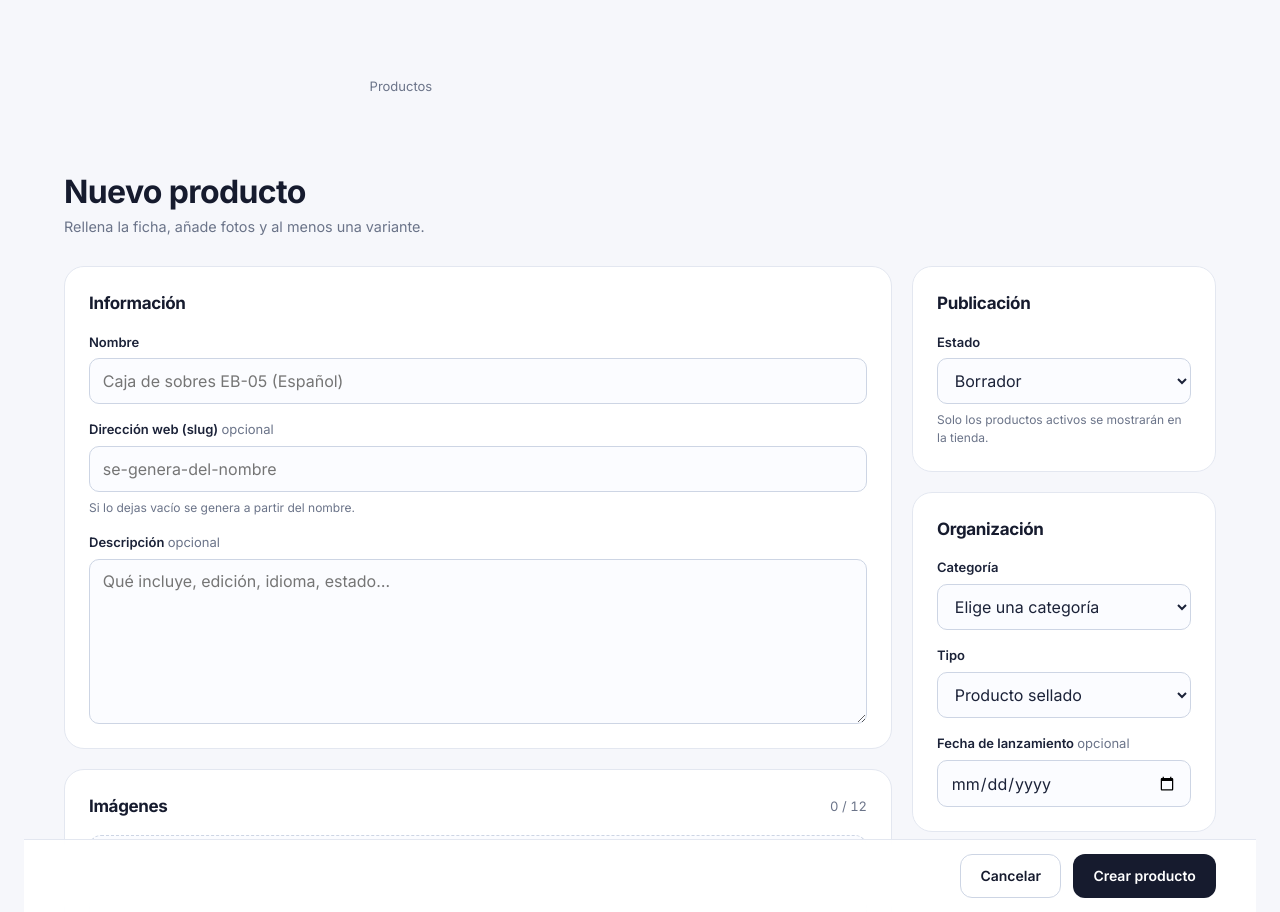
Test: ProductFormPageComponent › does not submit an incomplete product
What coordinates should you click on to do the following:
click the submit button
I would click on:
 (1145, 876)
Its box is [1073,854,1216,898].
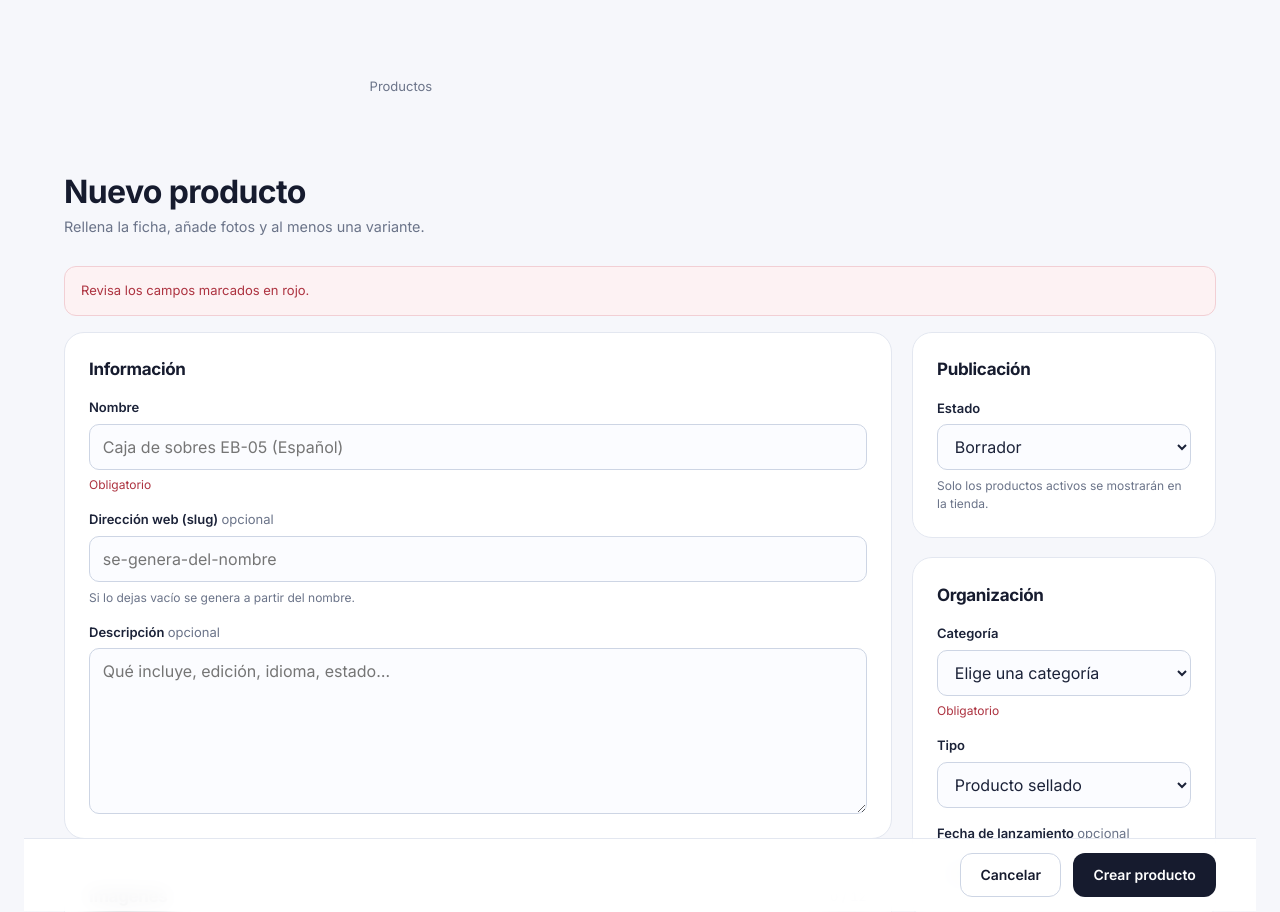
Result: the message with class "notice--error" shows "Revisa los campos" at [81,282,309,298]
